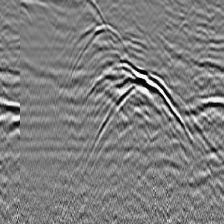cavities: (88, 55, 194, 149)
